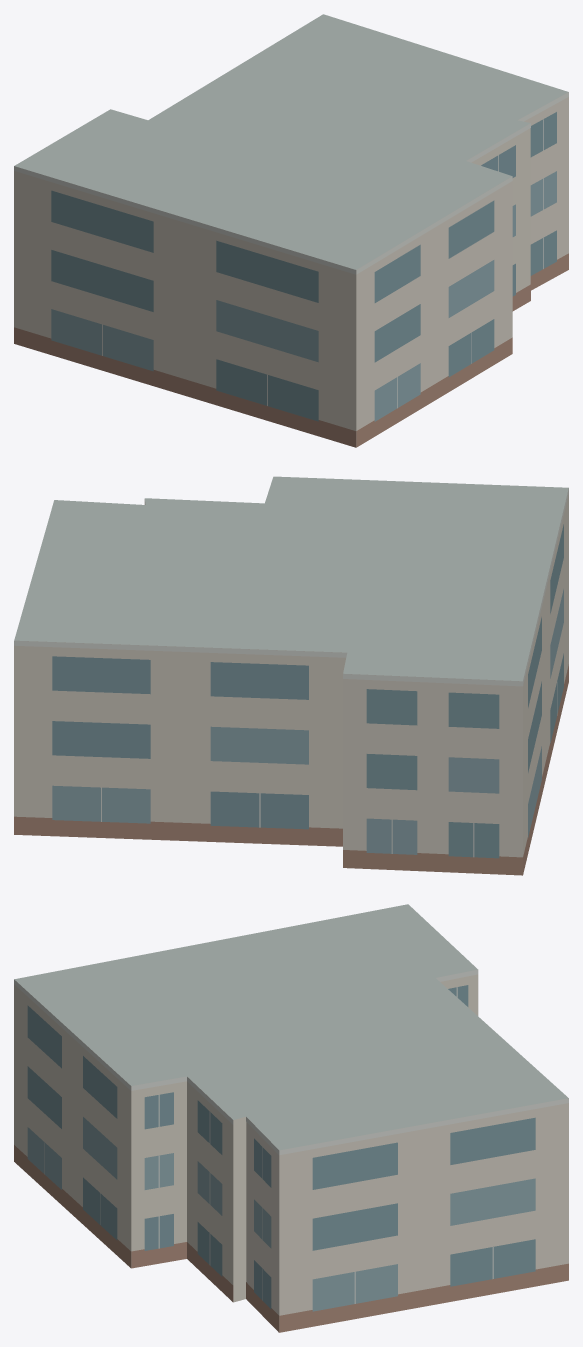
The model's file is survey-upis-32833331.glb.
3 renders of one model, top to bottom at view 1: azimuth 30°, elevation 25°; view 2: azimuth 150°, elevation 25°; view 3: azimuth 270°, elevation 25°, orthographic. The views are drawn at different scales.
Visible parts, largest first — view 1: survey-upis-32833331.tmp; view 2: survey-upis-32833331.tmp; view 3: survey-upis-32833331.tmp.
Boxes of the visible parts, x1,y1,x2,y2 form: survey-upis-32833331.tmp: (14,14,568,447); survey-upis-32833331.tmp: (14,476,568,875); survey-upis-32833331.tmp: (14,904,568,1332).
Size of the model in its own units: 26.51 by 9.15 by 25.24.
